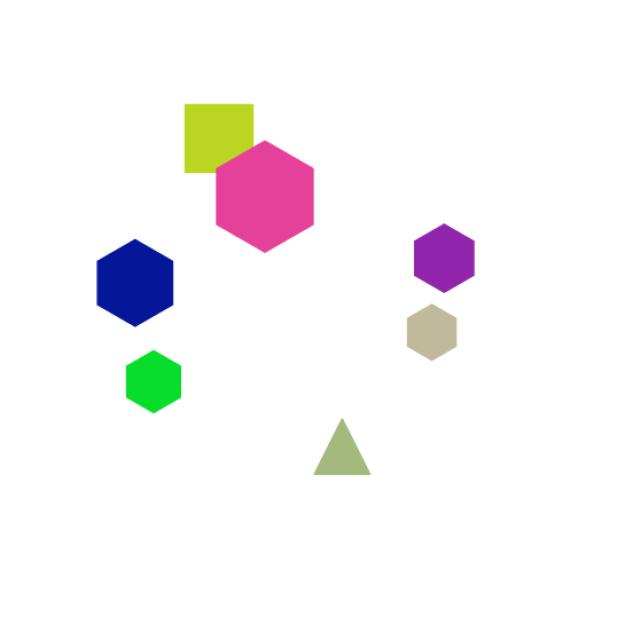Hexagon: (204, 130, 328, 259), (82, 235, 194, 338), (400, 212, 497, 316), (118, 342, 195, 451), (376, 284, 470, 370)
Triangle: (302, 397, 380, 495)
square: (167, 92, 266, 183)
